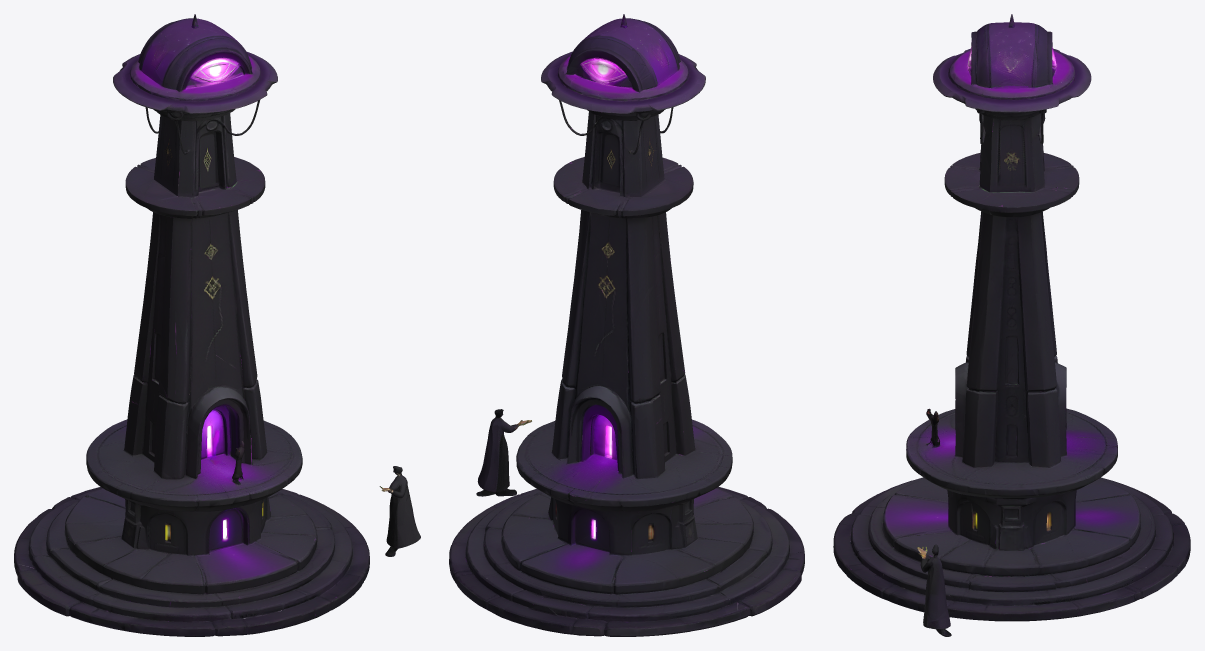
Rendered from bld-neon-observatory-mesh.glb.
3 views of the same model, side by side, from view 1: azimuth 30°, elevation 25°; view 2: azimuth 150°, elevation 25°; view 3: azimuth 270°, elevation 25° (orthographic). The views are drawn at different scales.
Parts seen in each view (by area): view 1: Mesh_0; view 2: Mesh_0; view 3: Mesh_0.
Part boxes in pixels (bbox=[...]): Mesh_0: bbox=[14, 14, 420, 636]; Mesh_0: bbox=[449, 14, 804, 636]; Mesh_0: bbox=[833, 14, 1190, 636].
Size of the model in its own units: 1.25 by 1.9 by 1.14.
1 material, 1 textured.
